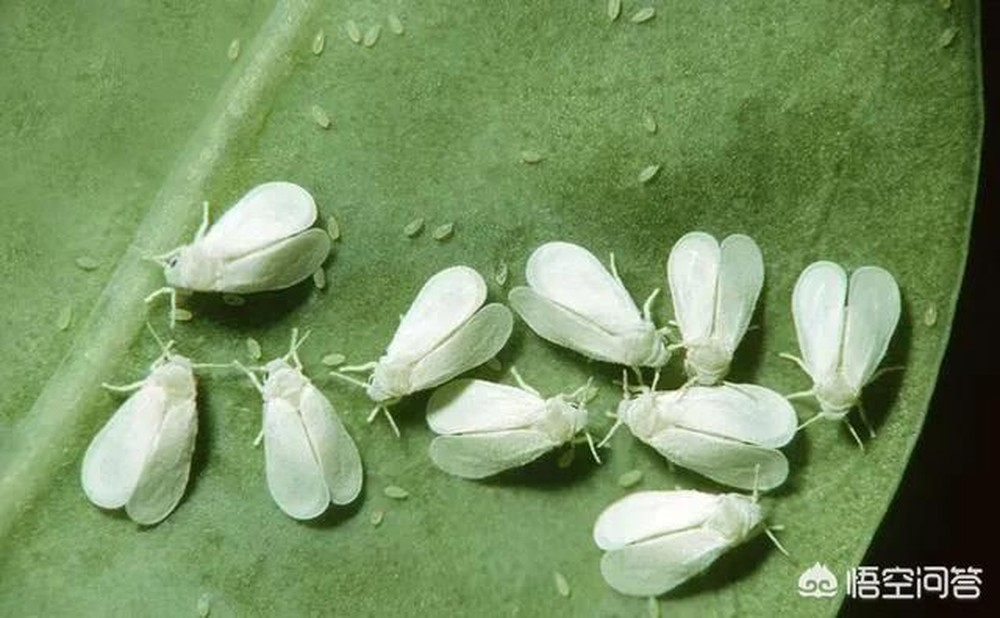Mosca Blanca: (122, 170, 351, 325), (70, 323, 238, 532), (236, 336, 393, 528), (355, 255, 522, 420), (608, 367, 815, 498), (594, 470, 809, 594), (512, 223, 675, 386), (775, 248, 907, 441), (642, 215, 777, 394), (419, 361, 607, 486)
